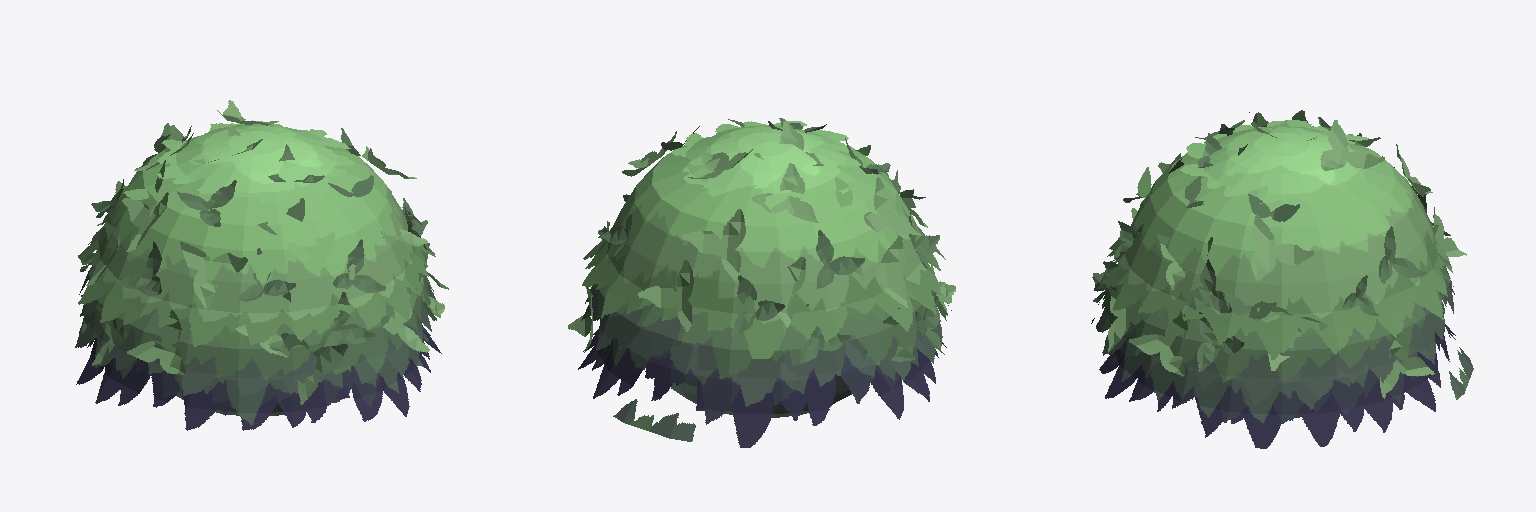
3 renders of one model, left to right at view 1: azimuth 30°, elevation 25°; view 2: azimuth 150°, elevation 25°; view 3: azimuth 270°, elevation 25°, orthographic.
Visible parts, largest first — view 1: Bush; view 2: Bush; view 3: Bush.
Part boxes in pixels (bbox=[...]): Bush: bbox=[75, 100, 448, 430]; Bush: bbox=[568, 118, 955, 447]; Bush: bbox=[1091, 110, 1473, 448].
Size of the model in its own units: 2.22 by 1.63 by 2.17.
1 materials, 1 textured.